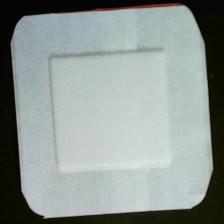Dressing: (9, 4, 216, 219)
Red_T: (34, 1, 198, 24)
